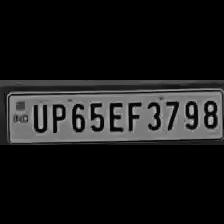3: (142, 97, 162, 131)
5: (86, 98, 106, 132)
6: (66, 99, 86, 133)
7: (162, 97, 180, 131)
8: (199, 96, 219, 130)
9: (180, 96, 200, 130)
E: (104, 98, 124, 132)
F: (124, 97, 142, 130)
P: (46, 100, 66, 132)
U: (28, 100, 48, 132)
